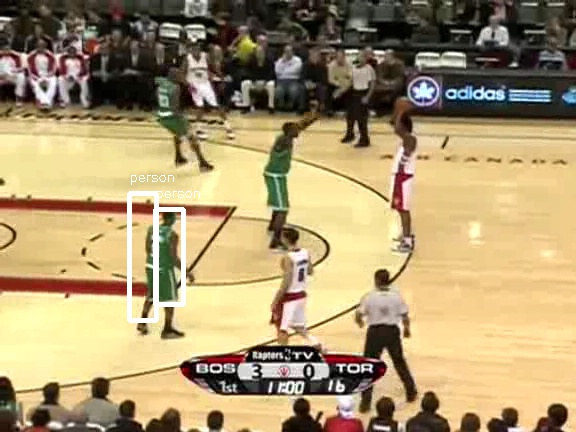person: (143, 226, 177, 307), (142, 226, 176, 307), (144, 226, 178, 307), (143, 225, 177, 306), (143, 227, 177, 308)
target_negative: (129, 39, 459, 89), (113, 118, 321, 188), (362, 119, 419, 306), (379, 325, 532, 384), (305, 355, 381, 365), (306, 307, 356, 315)
